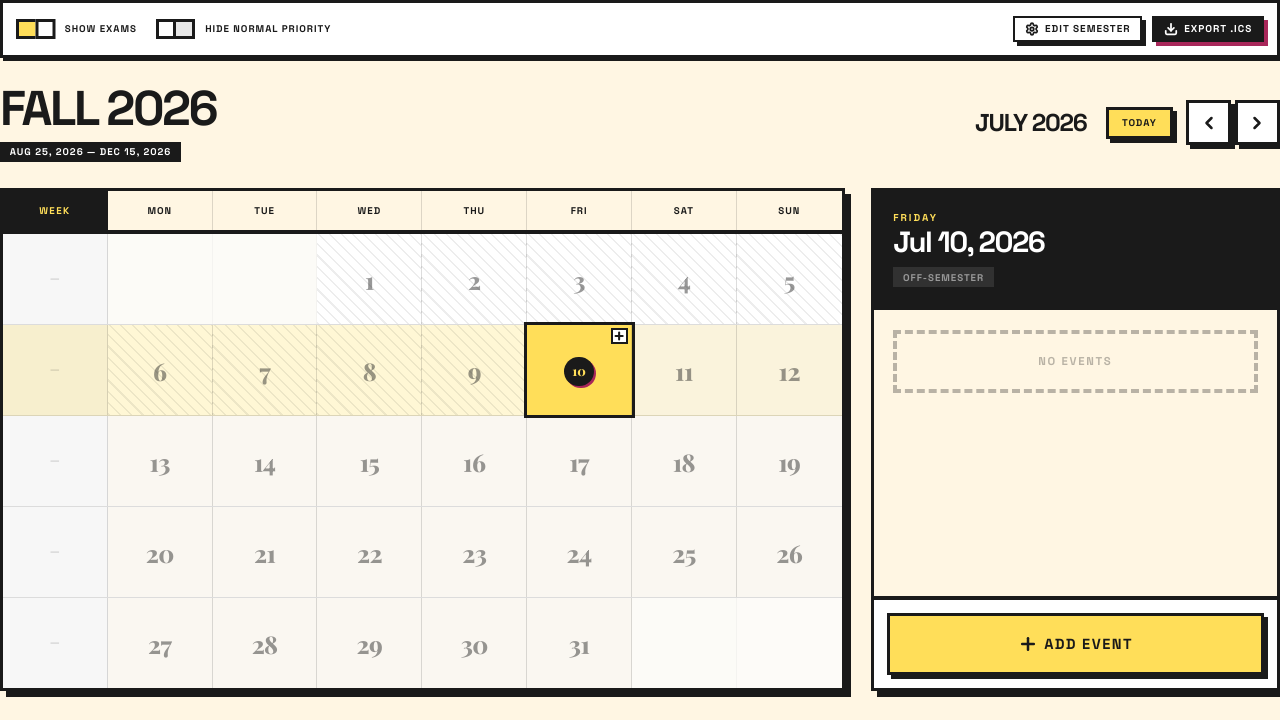
Test case: AcademicCalendar - Loaded State & Actions › opens unified modal with Task/Deadline toggle
Note: Click the Add Event button
What coordinates should you click on to do the following:
click the button "Add Event"
I would click on:
 (1075, 644)
Its box is [887,613,1264,675].
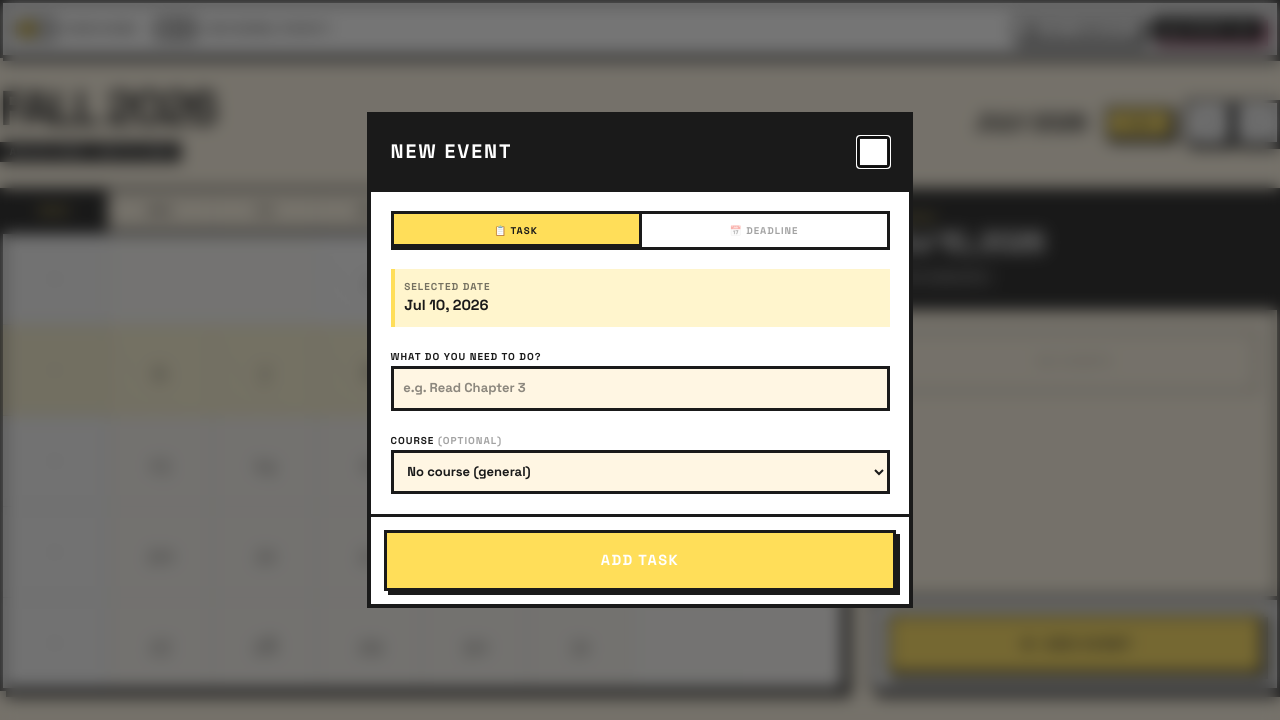
Expected: the heading "New Event" is shown, [390,139,512,164]
Expected: the button "📋 Task" is shown, [394,214,638,247]
Expected: the button "📅 Deadline" is shown, [638,214,886,247]
